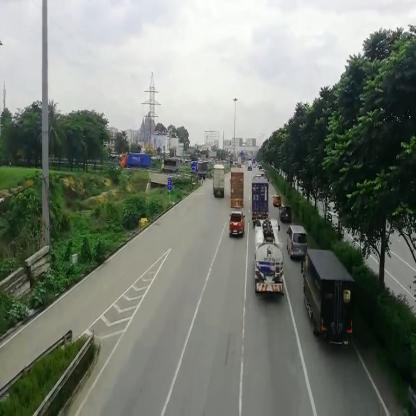car: (289, 226, 308, 257), (230, 213, 246, 240), (281, 208, 291, 221), (275, 194, 282, 206)
container: (252, 180, 270, 222), (232, 168, 245, 210), (121, 155, 152, 169), (213, 166, 226, 197)
truck: (304, 250, 353, 344), (256, 219, 283, 296), (161, 159, 177, 175)
